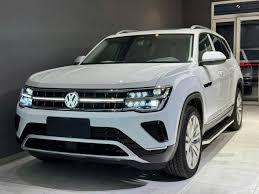volkswagen: (64, 89, 79, 109)
